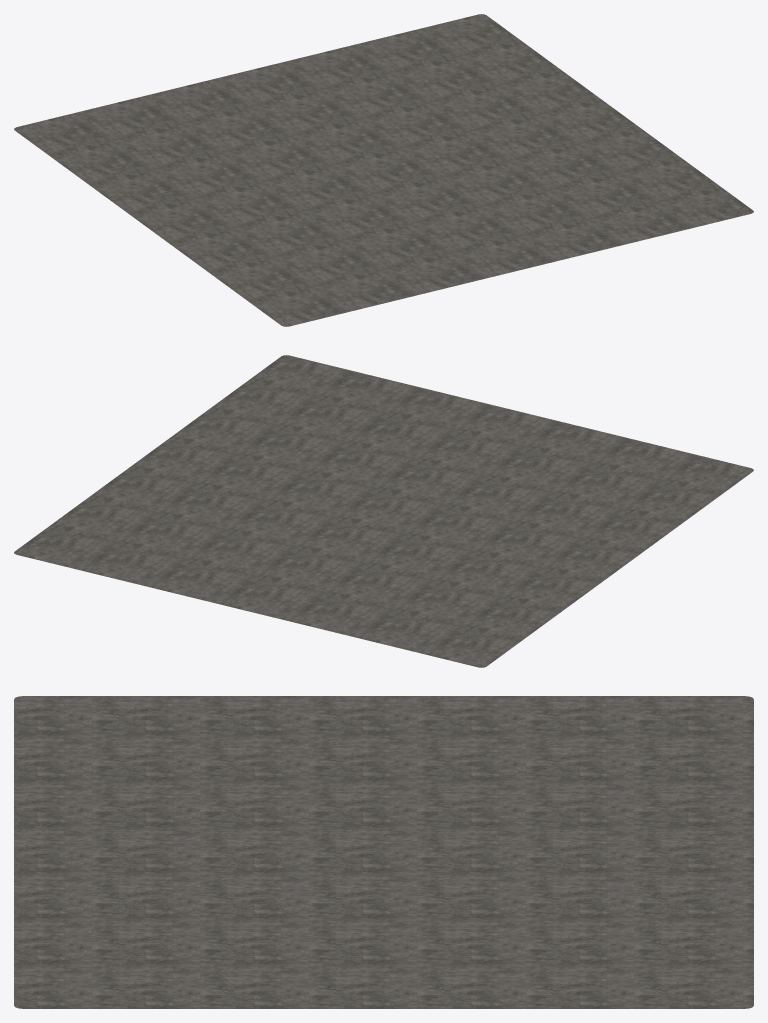
The model's file is RoomA-Floor.glb.
The picture shows the model from 3 angles, top to bottom: view 1: azimuth 30°, elevation 25°; view 2: azimuth 150°, elevation 25°; view 3: azimuth 270°, elevation 25°; orthographic projection. The views are drawn at different scales.
Parts seen in each view (by area): view 1: ROOM_A-Floor; view 2: ROOM_A-Floor; view 3: ROOM_A-Floor.
Boxes of the visible parts, x1,y1,x2,y2 form: ROOM_A-Floor: (14, 14, 753, 326); ROOM_A-Floor: (14, 355, 753, 667); ROOM_A-Floor: (14, 696, 753, 1008).
Size of the model in its own units: 15.05 by 1.79e-07 by 15.05.
1 material, 1 textured.
